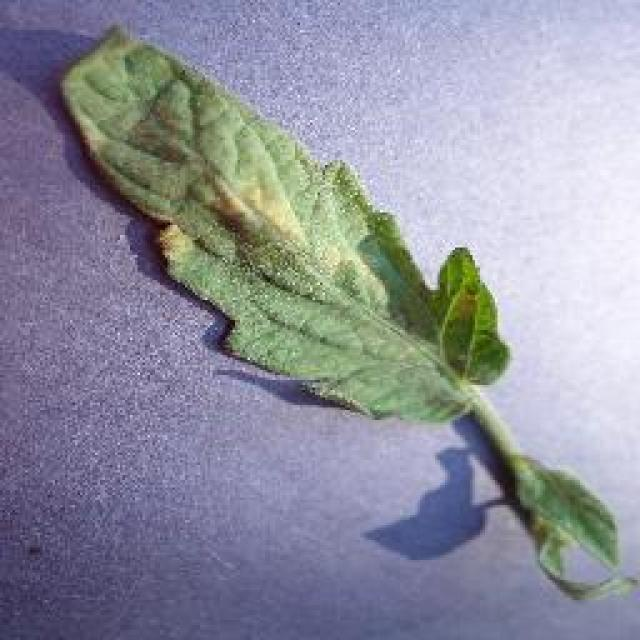Tomato mold leaf: (66, 28, 619, 598)
